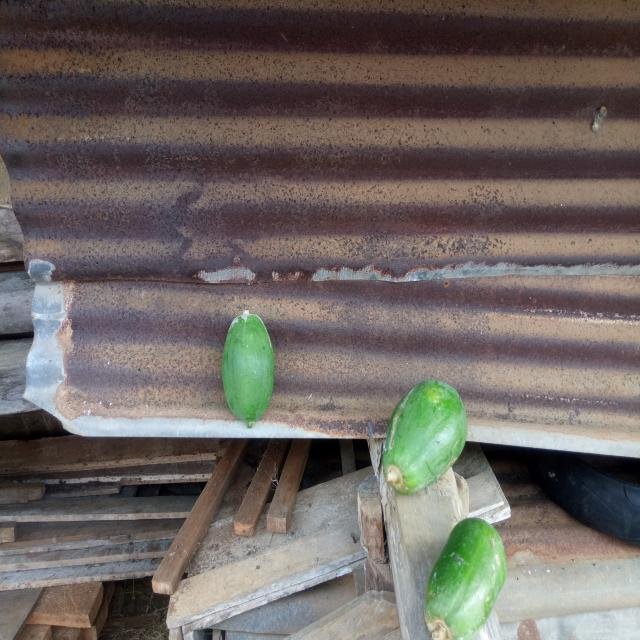Pepaya unrippen: (370, 370, 470, 504), (417, 511, 514, 640), (217, 305, 280, 431)
